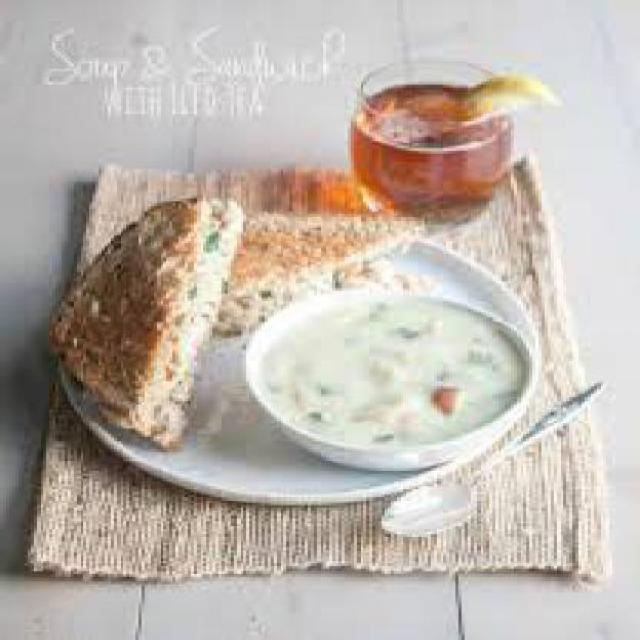clam chowder: (243, 290, 545, 468)
club sandwich: (52, 180, 394, 455)
